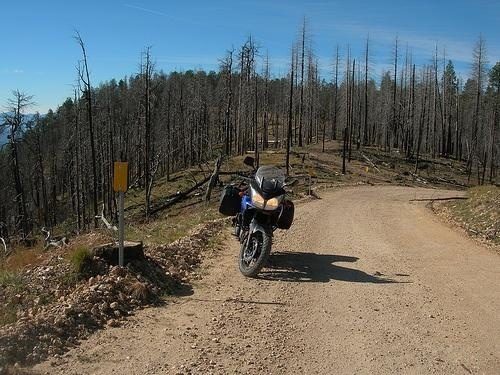motorbike: (220, 154, 300, 280)
